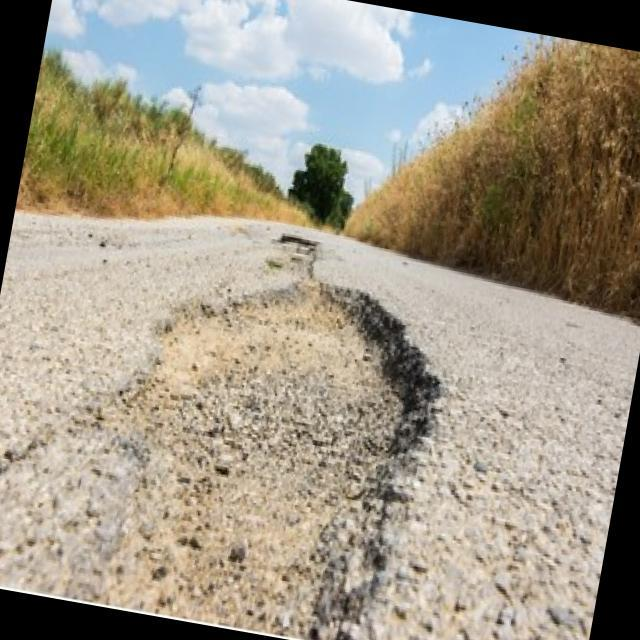Pothole: (91, 253, 459, 640), (275, 232, 318, 252)
